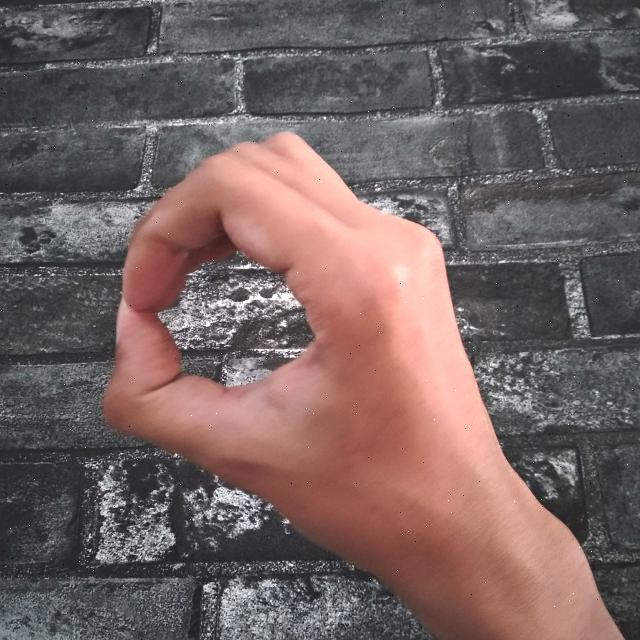O: (95, 125, 630, 640)
